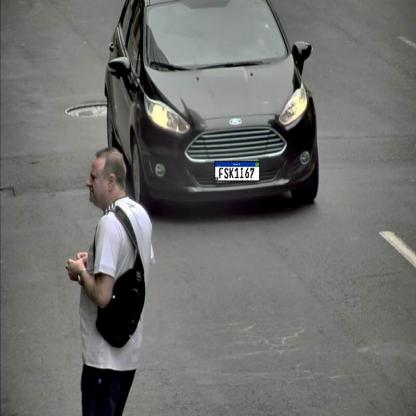PlacaM: (214, 161, 260, 182)
